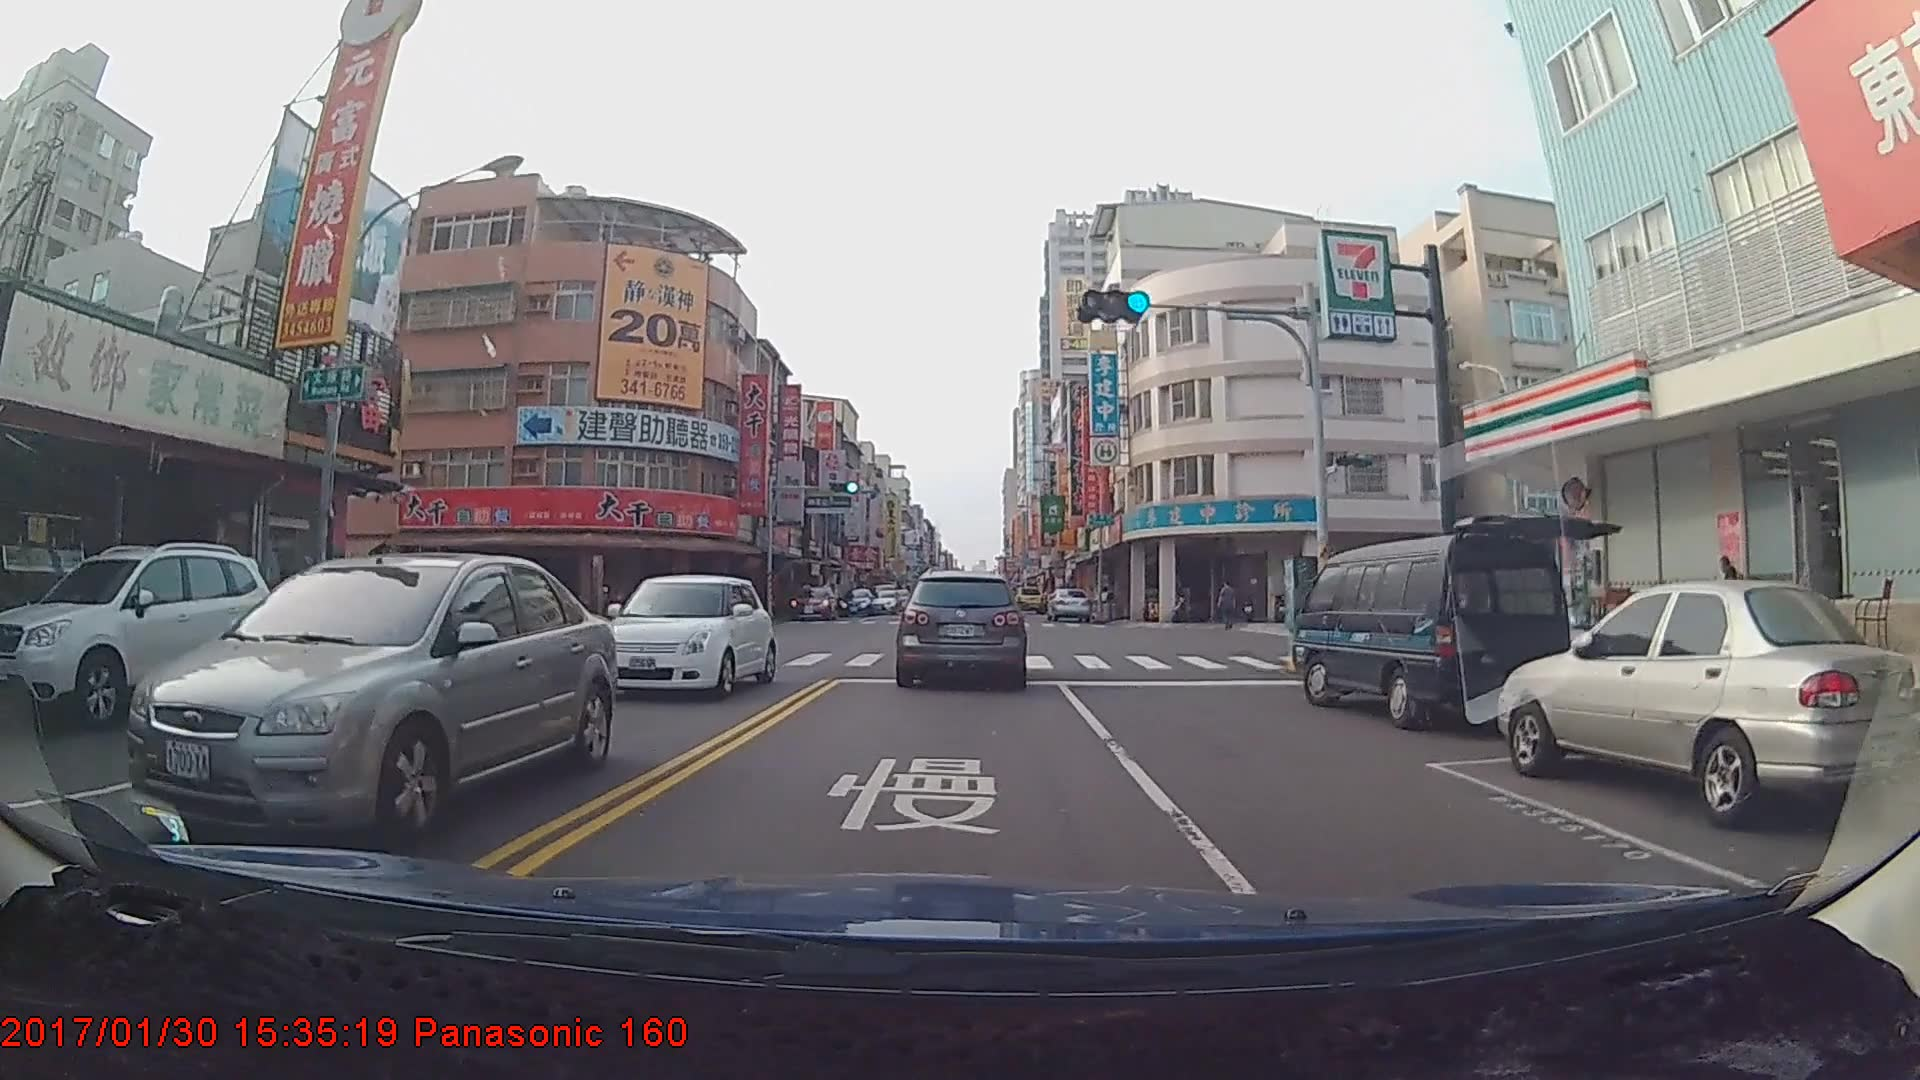pedestrian: (1220, 584, 1241, 636)
vehicle: (127, 551, 618, 845), (1496, 579, 1918, 829), (1293, 526, 1580, 732), (0, 537, 281, 728), (587, 572, 775, 703), (896, 569, 1027, 688), (1045, 586, 1095, 624), (789, 584, 836, 619), (838, 589, 876, 616), (1014, 585, 1045, 611)
